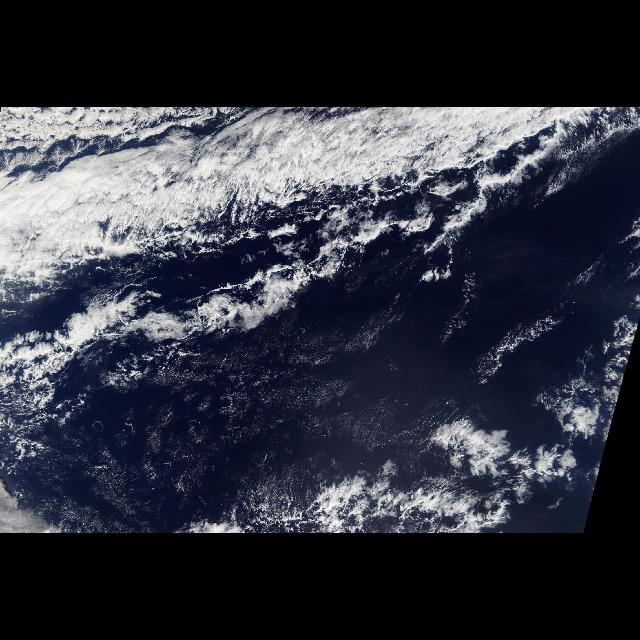Sugar: (100, 382, 420, 472)
